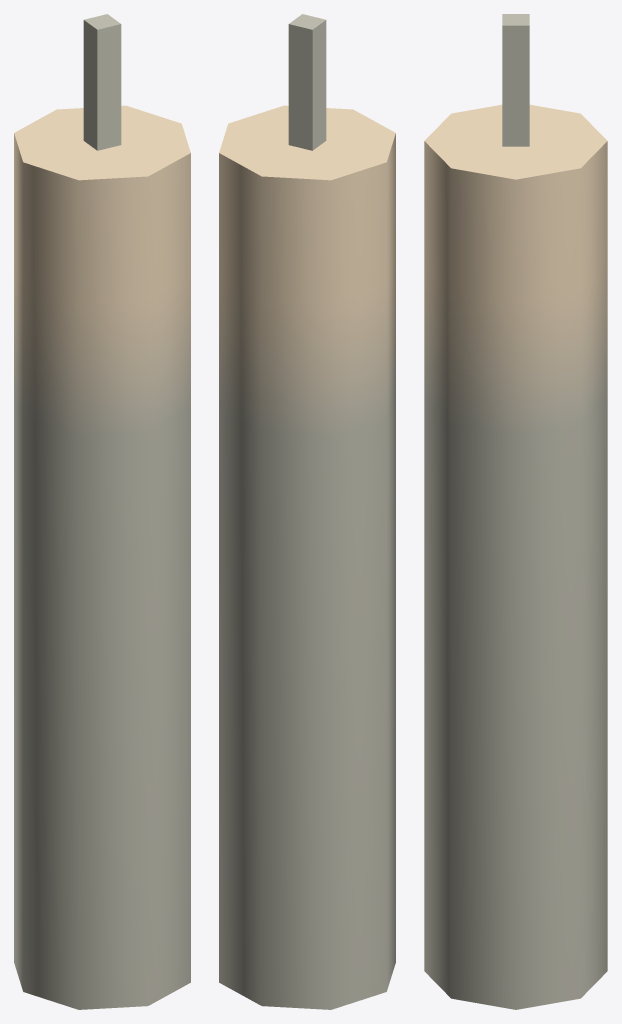
File: BgMD_Candle.fbx
The picture shows the model from 3 angles, left to right: view 1: azimuth 30°, elevation 25°; view 2: azimuth 150°, elevation 25°; view 3: azimuth 270°, elevation 25°; orthographic projection.
Parts seen in each view (by area): view 1: BgMD_Candle2, BgMD_Candle1; view 2: BgMD_Candle2, BgMD_Candle1; view 3: BgMD_Candle2, BgMD_Candle1.
Part boxes in pixels (box(x1,y1,x2,y2)): BgMD_Candle2: box(14, 105, 190, 1009); BgMD_Candle1: box(83, 14, 121, 150); BgMD_Candle2: box(219, 105, 395, 1009); BgMD_Candle1: box(288, 14, 326, 150); BgMD_Candle2: box(424, 104, 607, 1009); BgMD_Candle1: box(502, 14, 529, 146).
Size of the model in its own units: 8 by 45.84 by 8.
